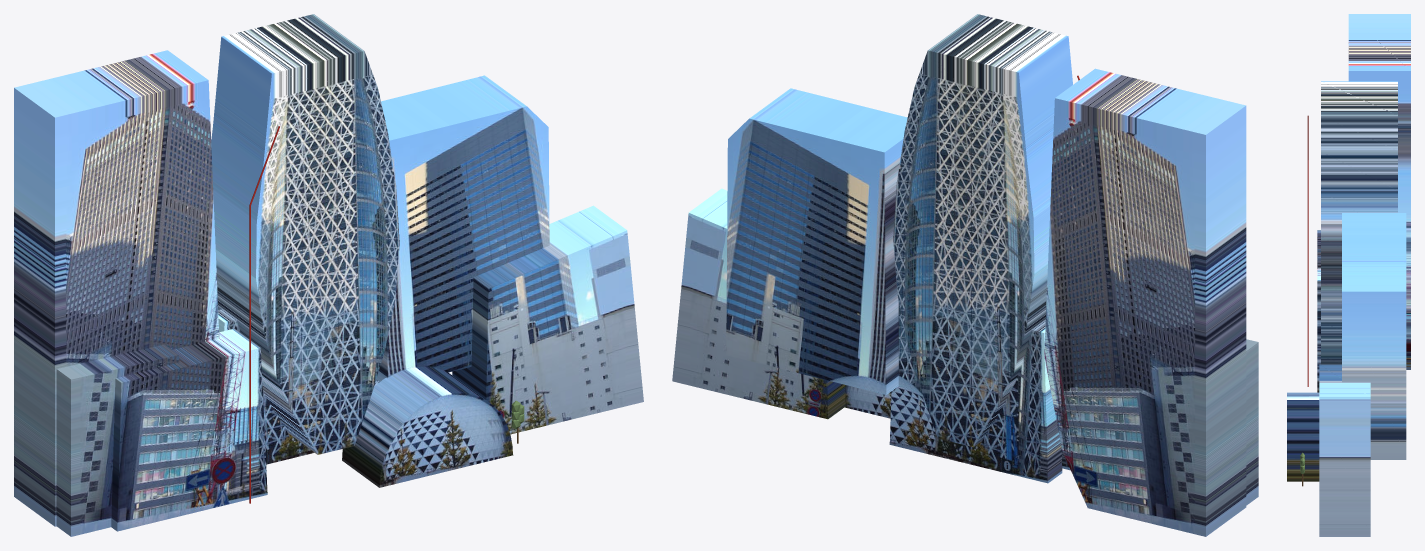
File: shinjuku-camera-matched.glb
3 views of the same model, side by side, from view 1: azimuth 30°, elevation 25°; view 2: azimuth 150°, elevation 25°; view 3: azimuth 270°, elevation 25° (orthographic). The views are drawn at different scales.
Visible parts, largest first — view 1: 04 Mode Gakuen Cocoon Tower, 01 Sompo Japan Building - left tower, 05 Right striped tower, 06 Right foreground annex, 03 Left middle office, 07 Mode Gakuen Cocoon Hall, 02 Left foreground office, 04B Cocoon Tower lower podium; view 2: 01 Sompo Japan Building - left tower, 04 Mode Gakuen Cocoon Tower, 05 Right striped tower, 06 Right foreground annex, 04B Cocoon Tower lower podium, 02 Left foreground office, 07 Mode Gakuen Cocoon Hall; view 3: 05 Right striped tower, 04 Mode Gakuen Cocoon Tower, 06 Right foreground annex, 01 Sompo Japan Building - left tower, 07 Mode Gakuen Cocoon Hall, 03 Left middle office, 08 Construction crane mast.
Part boxes in pixels (x1=…): 04 Mode Gakuen Cocoon Tower: x1=211, y1=14, x2=399, y2=454; 01 Sompo Japan Building - left tower: x1=14, y1=50, x2=219, y2=526; 05 Right striped tower: x1=376, y1=75, x2=549, y2=381; 06 Right foreground annex: x1=452, y1=205, x2=643, y2=434; 03 Left middle office: x1=111, y1=328, x2=267, y2=531; 07 Mode Gakuen Cocoon Hall: x1=342, y1=366, x2=513, y2=487; 02 Left foreground office: x1=56, y1=344, x2=179, y2=536; 04B Cocoon Tower lower podium: x1=218, y1=309, x2=379, y2=464; 01 Sompo Japan Building - left tower: x1=1044, y1=68, x2=1246, y2=536; 04 Mode Gakuen Cocoon Tower: x1=893, y1=14, x2=1072, y2=447; 05 Right striped tower: x1=726, y1=88, x2=907, y2=394; 06 Right foreground annex: x1=672, y1=188, x2=845, y2=419; 04B Cocoon Tower lower podium: x1=889, y1=298, x2=1062, y2=483; 02 Left foreground office: x1=1246, y1=339, x2=1258, y2=505; 07 Mode Gakuen Cocoon Hall: x1=845, y1=385, x2=891, y2=418; 05 Right striped tower: x1=1342, y1=213, x2=1406, y2=459; 04 Mode Gakuen Cocoon Tower: x1=1321, y1=81, x2=1397, y2=364; 06 Right foreground annex: x1=1319, y1=364, x2=1370, y2=536; 01 Sompo Japan Building - left tower: x1=1348, y1=14, x2=1410, y2=369; 07 Mode Gakuen Cocoon Hall: x1=1287, y1=392, x2=1319, y2=481; 03 Left middle office: x1=1317, y1=230, x2=1320, y2=392; 08 Construction crane mast: x1=1307, y1=160, x2=1308, y2=386.
Bounding box in the file's own units: 27.28 × 19.16 × 6.75.
Materials: 4 (1 with a texture image).
